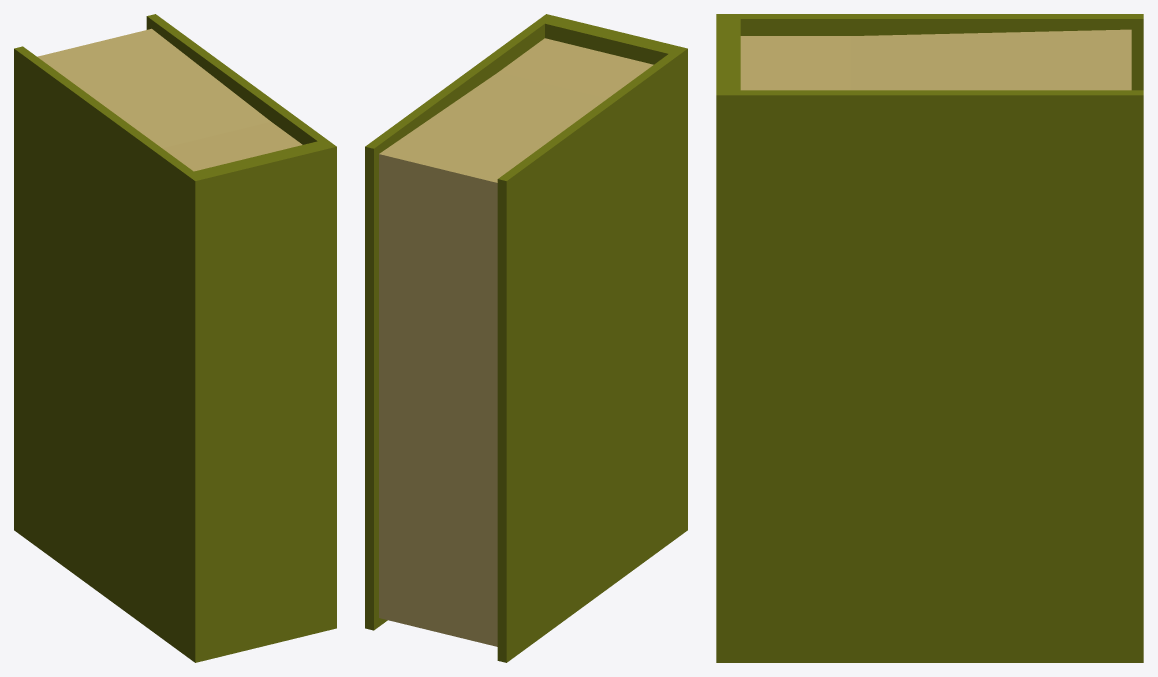
The model's file is CPI441_Fur_BookSingular_BoogerGreen.fbx.
3 renders of one model, left to right at view 1: azimuth 30°, elevation 25°; view 2: azimuth 150°, elevation 25°; view 3: azimuth 270°, elevation 25°, orthographic. The views are drawn at different scales.
Visible parts, largest first — view 1: Cube; view 2: Cube; view 3: Cube.
Part boxes in pixels (x1,y1,x2,y2): Cube: (14,14,336,662); Cube: (365,14,687,662); Cube: (716,14,1143,662).
Bounding box in the file's own units: 49.65 × 161 × 110.
